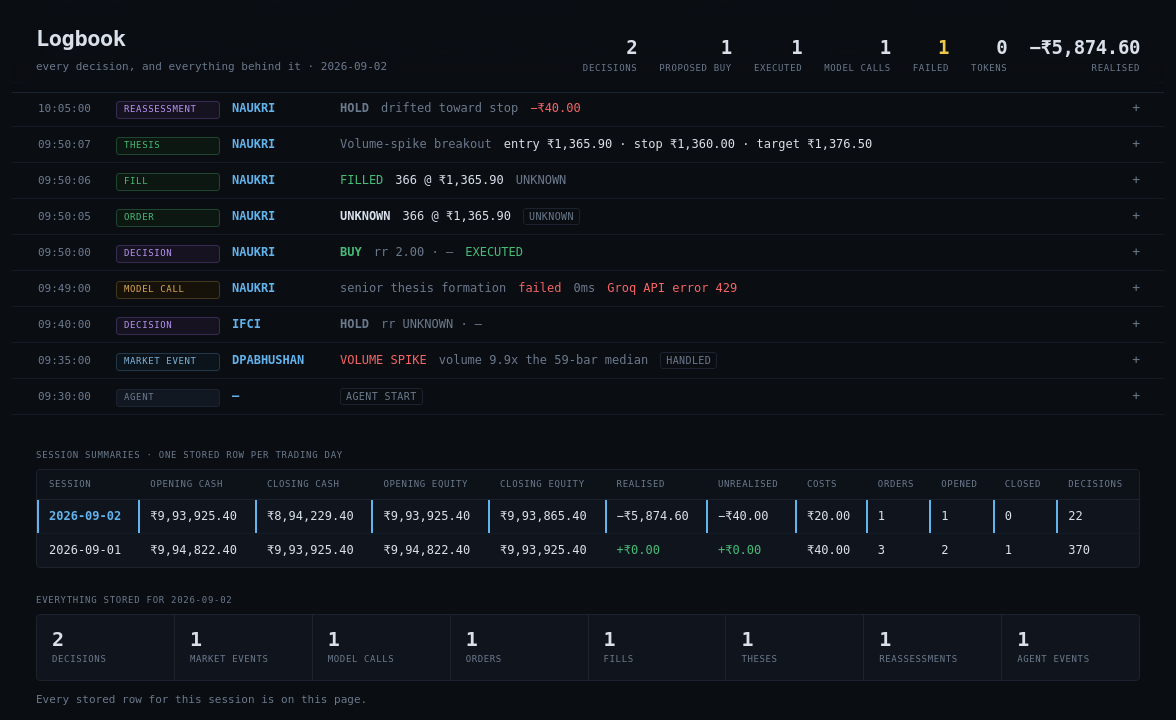
Test: logbook page › opens a market event and shows what it measured
(page scrolled)
Click the button with class "lb-head" that starts with "MARKET EVENT" at (588, 360), box [12,343,1164,378]
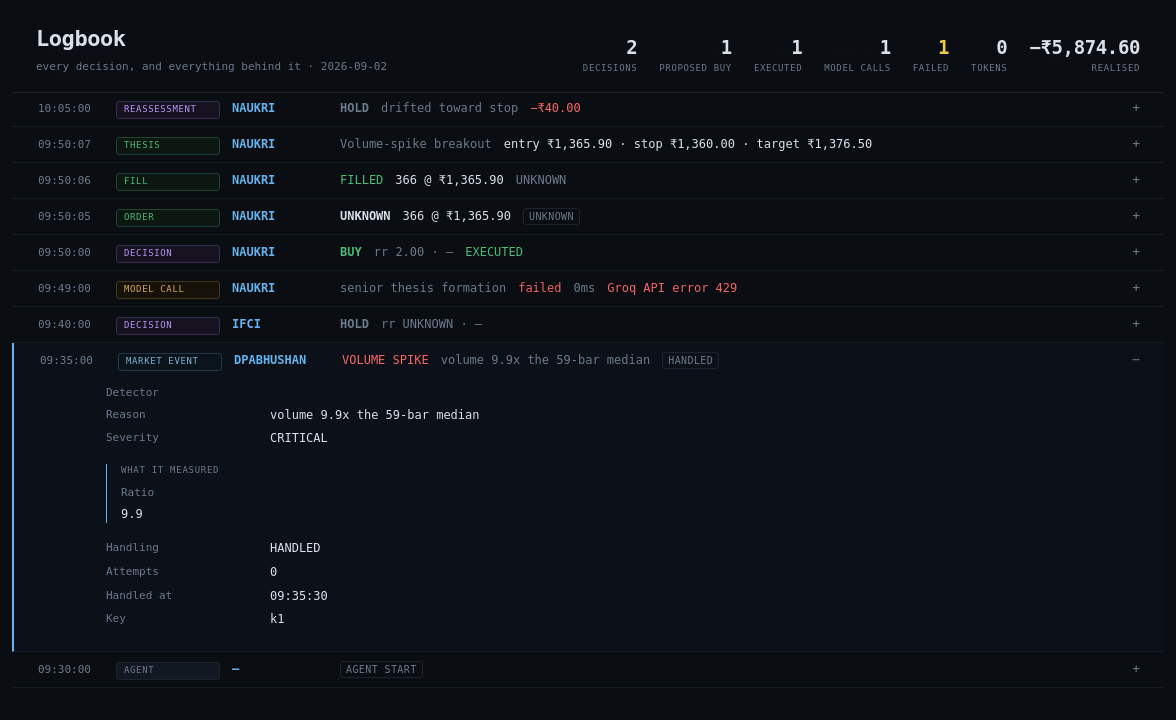
Now the text "Ratio" is shown, box [121,486,154,499]
Now the text "9.9" is shown, box [121,507,143,521]
